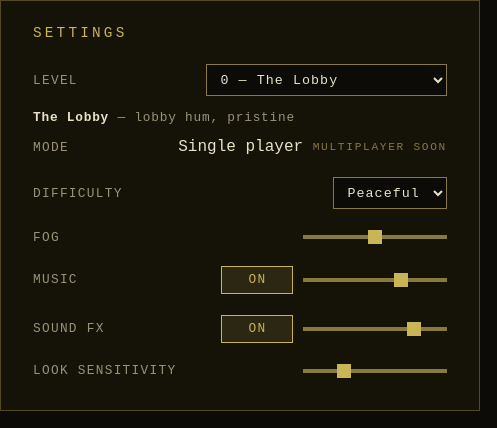
Scenario: SettingsPanel › choosing a level updates the store and the preview line
Step 1. Select "6 — Lights Out" in the dropdown named "Level" → (326, 80), box [206,64,447,96]
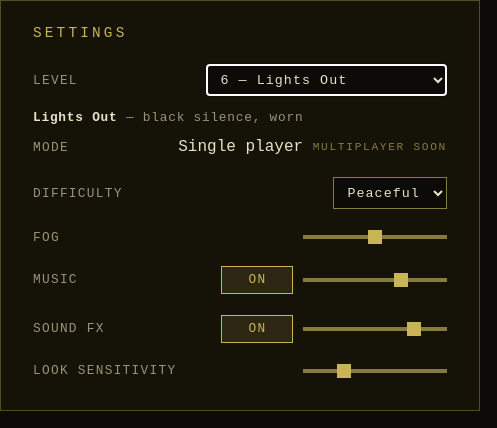
Check: the text "Lights Out" is shown, box [33,110,118,124]
